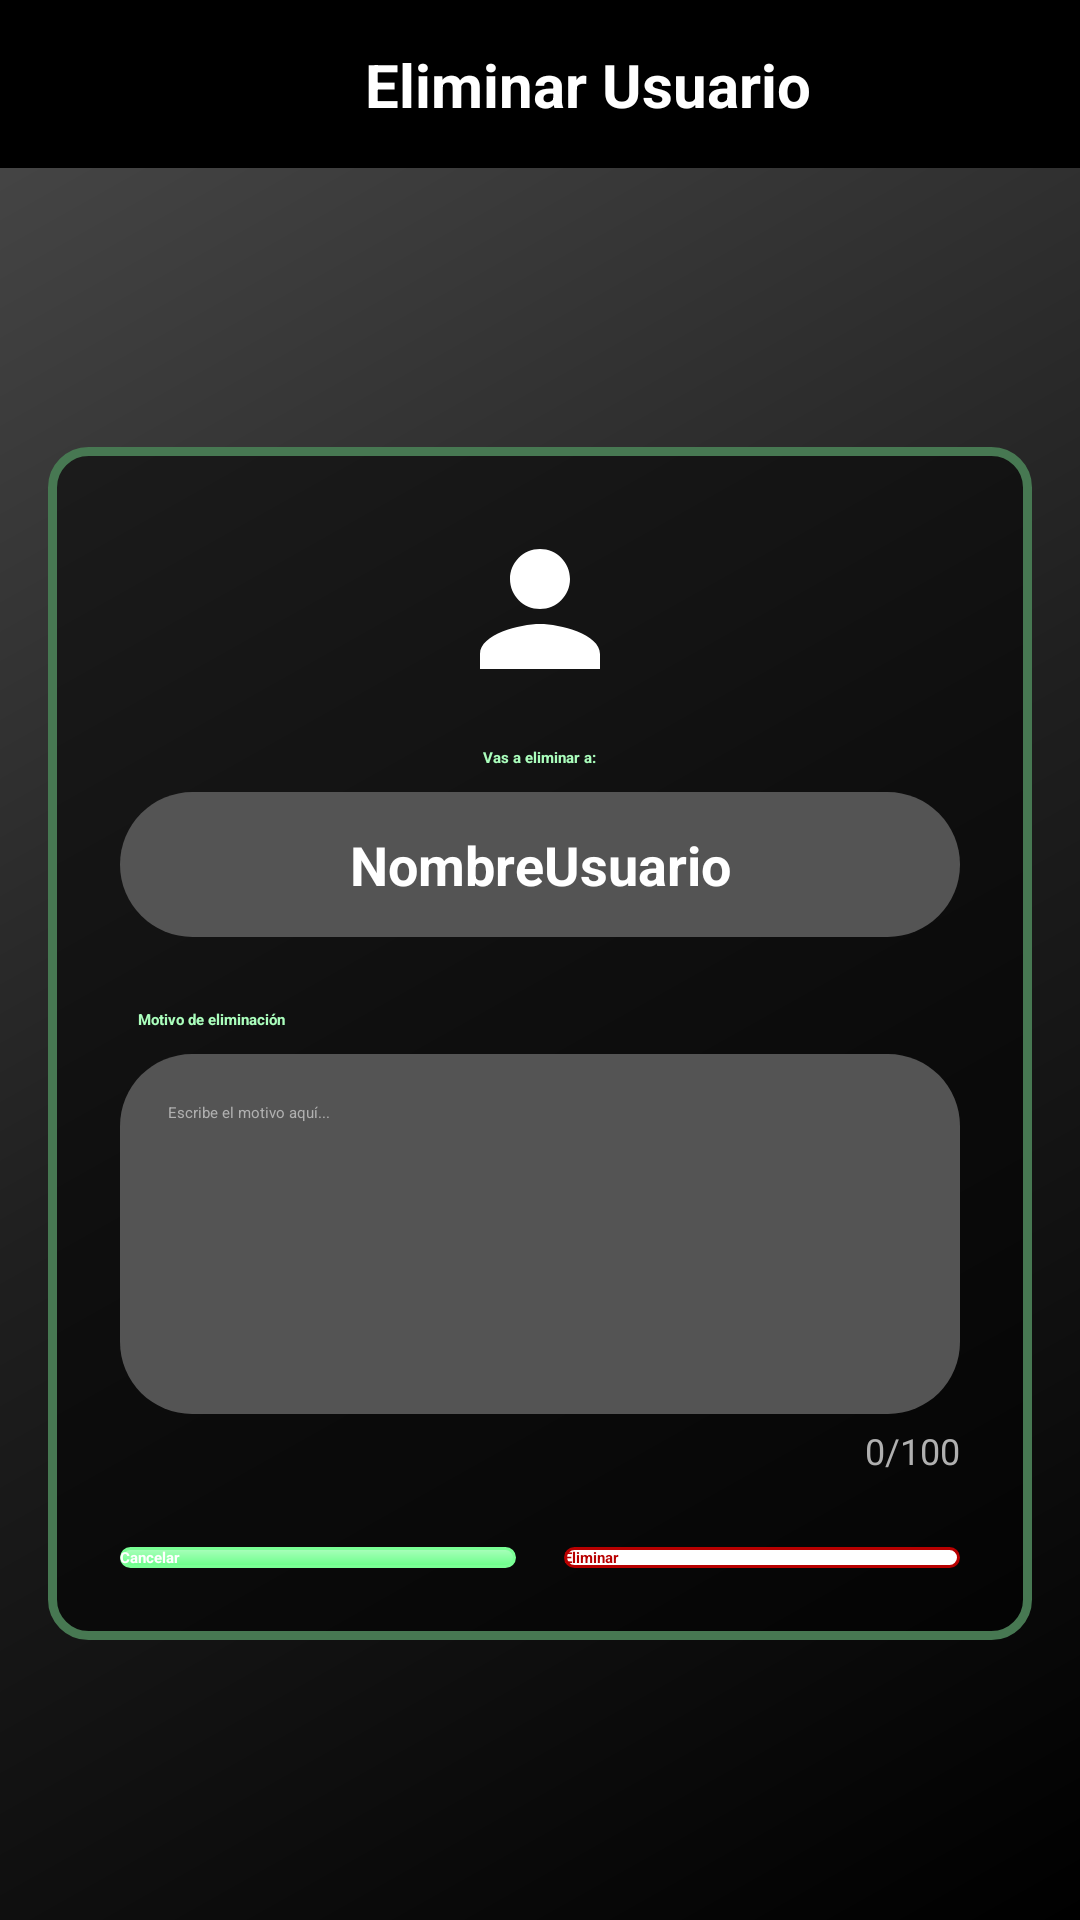

Screen size 1080px×1920px. Icon name, then its box in pixels as box(x1, y1, x2, y2):
usuario perfil: box(480, 549, 600, 669)
